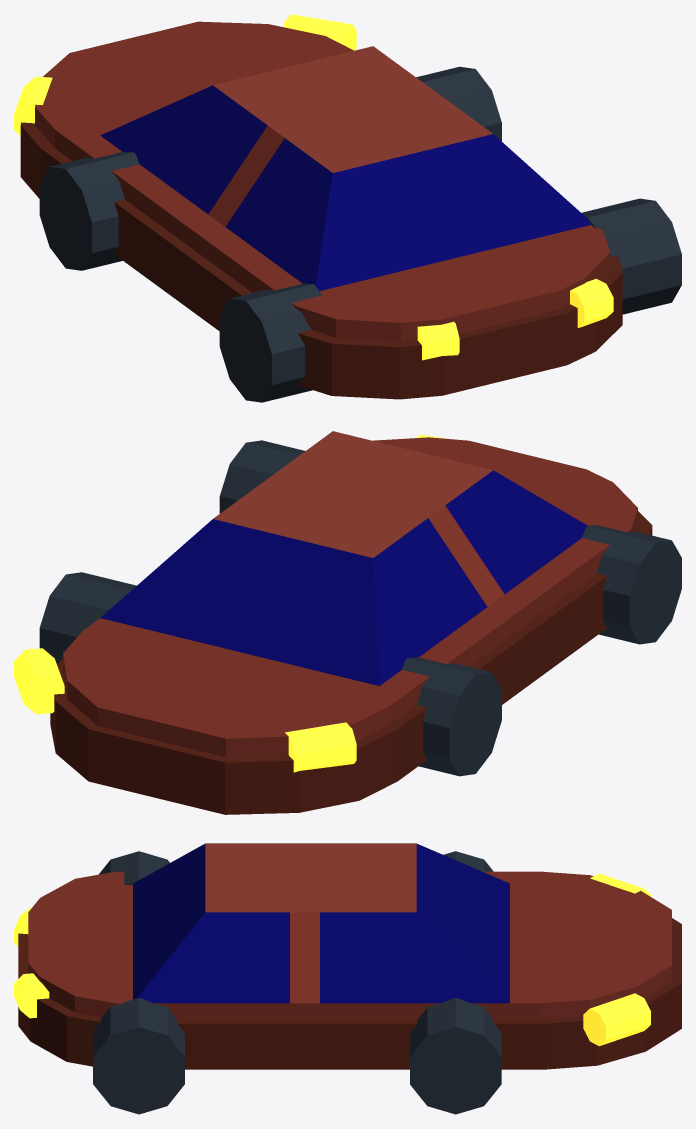
Rendered from newshv-163.glb.
3 views of the same model, one above another, from view 1: azimuth 30°, elevation 25°; view 2: azimuth 150°, elevation 25°; view 3: azimuth 270°, elevation 25° (orthographic). The views are drawn at different scales.
Visible parts, largest first — view 1: newshv-163; view 2: newshv-163; view 3: newshv-163.
Part boxes in pixels (bbox=[...]): newshv-163: bbox=[14, 14, 681, 402]; newshv-163: bbox=[14, 431, 681, 814]; newshv-163: bbox=[14, 843, 681, 1114].
Size of the model in its own units: 1.15 by 0.4533 by 1.85.
